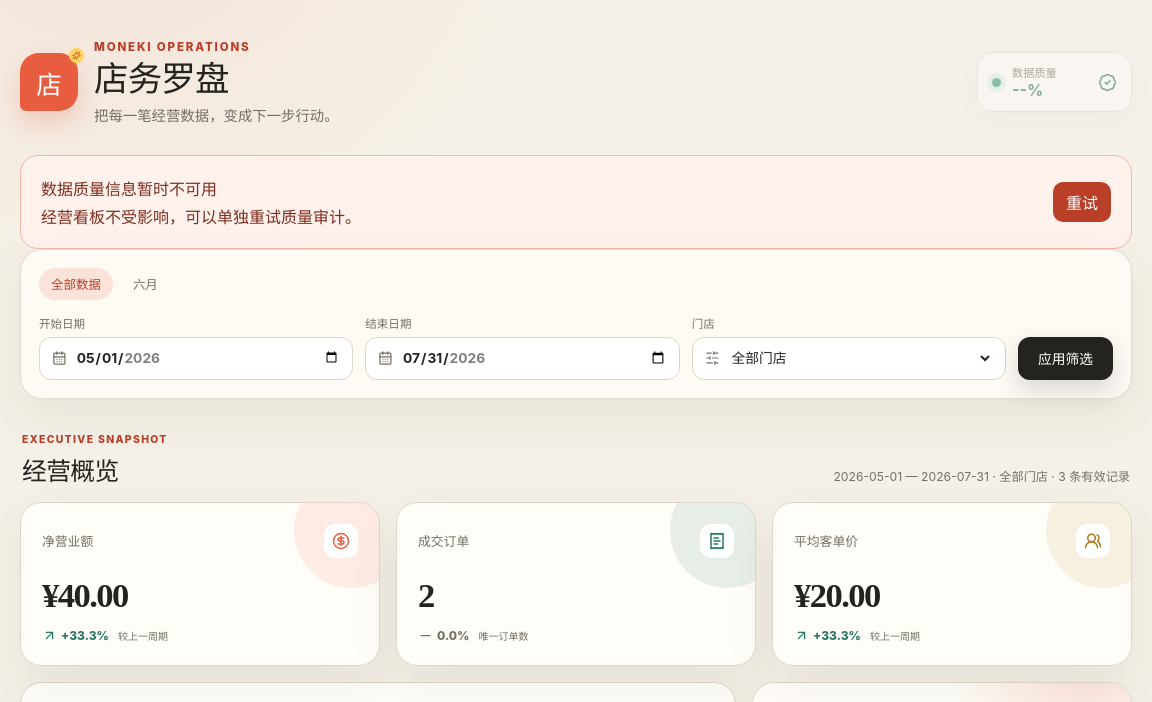
Test case: surfaces a data quality request error and lets the user retry it
This screenshot has width=1152, height=702.
Expected: the element named "净营业额：¥40.00" is shown, [20,502,380,666]
Expected: the message shows "数据质量信息暂时不可用", [41,179,217,199]
Click the button with aria-label "重试数据质量": (1082, 202) [1053,182,1111,222]
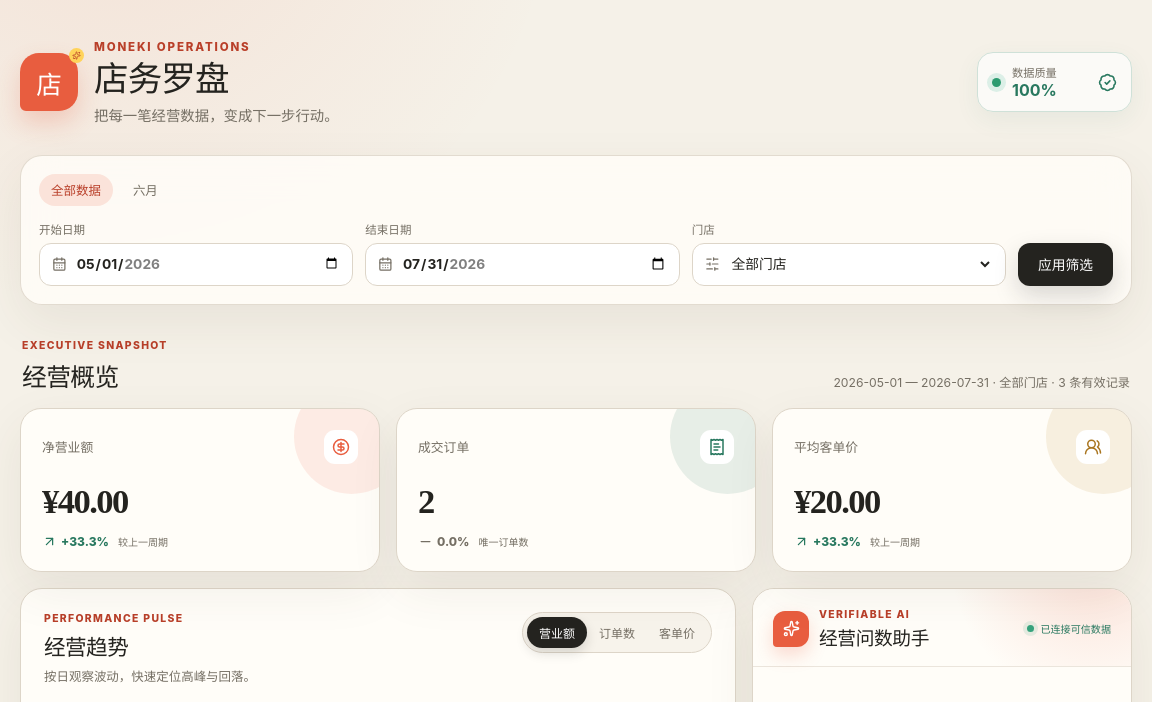
Now the button "数据质量 100%" is enabled, box [977,52,1132,112]
Now the text "数据质量信息暂时不可用" is gone
